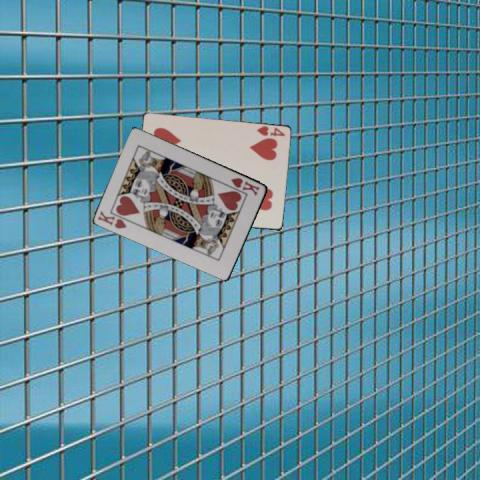4h: (254, 124, 286, 138)
Kh: (95, 207, 129, 230), (228, 175, 261, 196)
